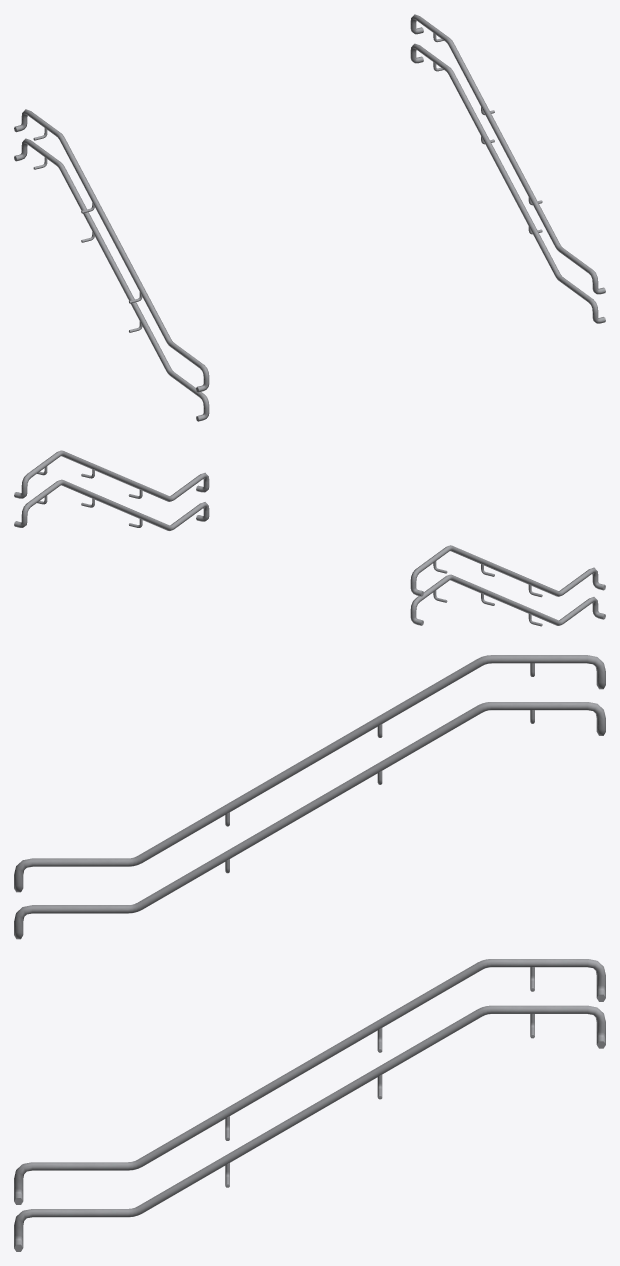
The model's file is gteki_ik_stair_n5_r174_t272_w2738_rails_wall.glb.
3 views of the same model, one above another, from view 1: azimuth 30°, elevation 25°; view 2: azimuth 150°, elevation 25°; view 3: azimuth 270°, elevation 25° (orthographic). The views are drawn at different scales.
Parts seen in each view (by area): view 1: VIS_handrails, VIS_rail_supports; view 2: VIS_handrails, VIS_rail_supports; view 3: VIS_handrails, VIS_rail_supports.
Boxes of the visible parts, box(x1,y1,x2,y2) form: VIS_handrails: box(14, 14, 605, 421); VIS_rail_supports: box(33, 33, 542, 332); VIS_handrails: box(14, 450, 605, 625); VIS_rail_supports: box(37, 466, 542, 626); VIS_handrails: box(14, 655, 605, 1251); VIS_rail_supports: box(225, 663, 534, 1187).
Size of the model in its own units: 2.96 by 1.22 by 2.3.
Materials: 1 (1 with a texture image).
